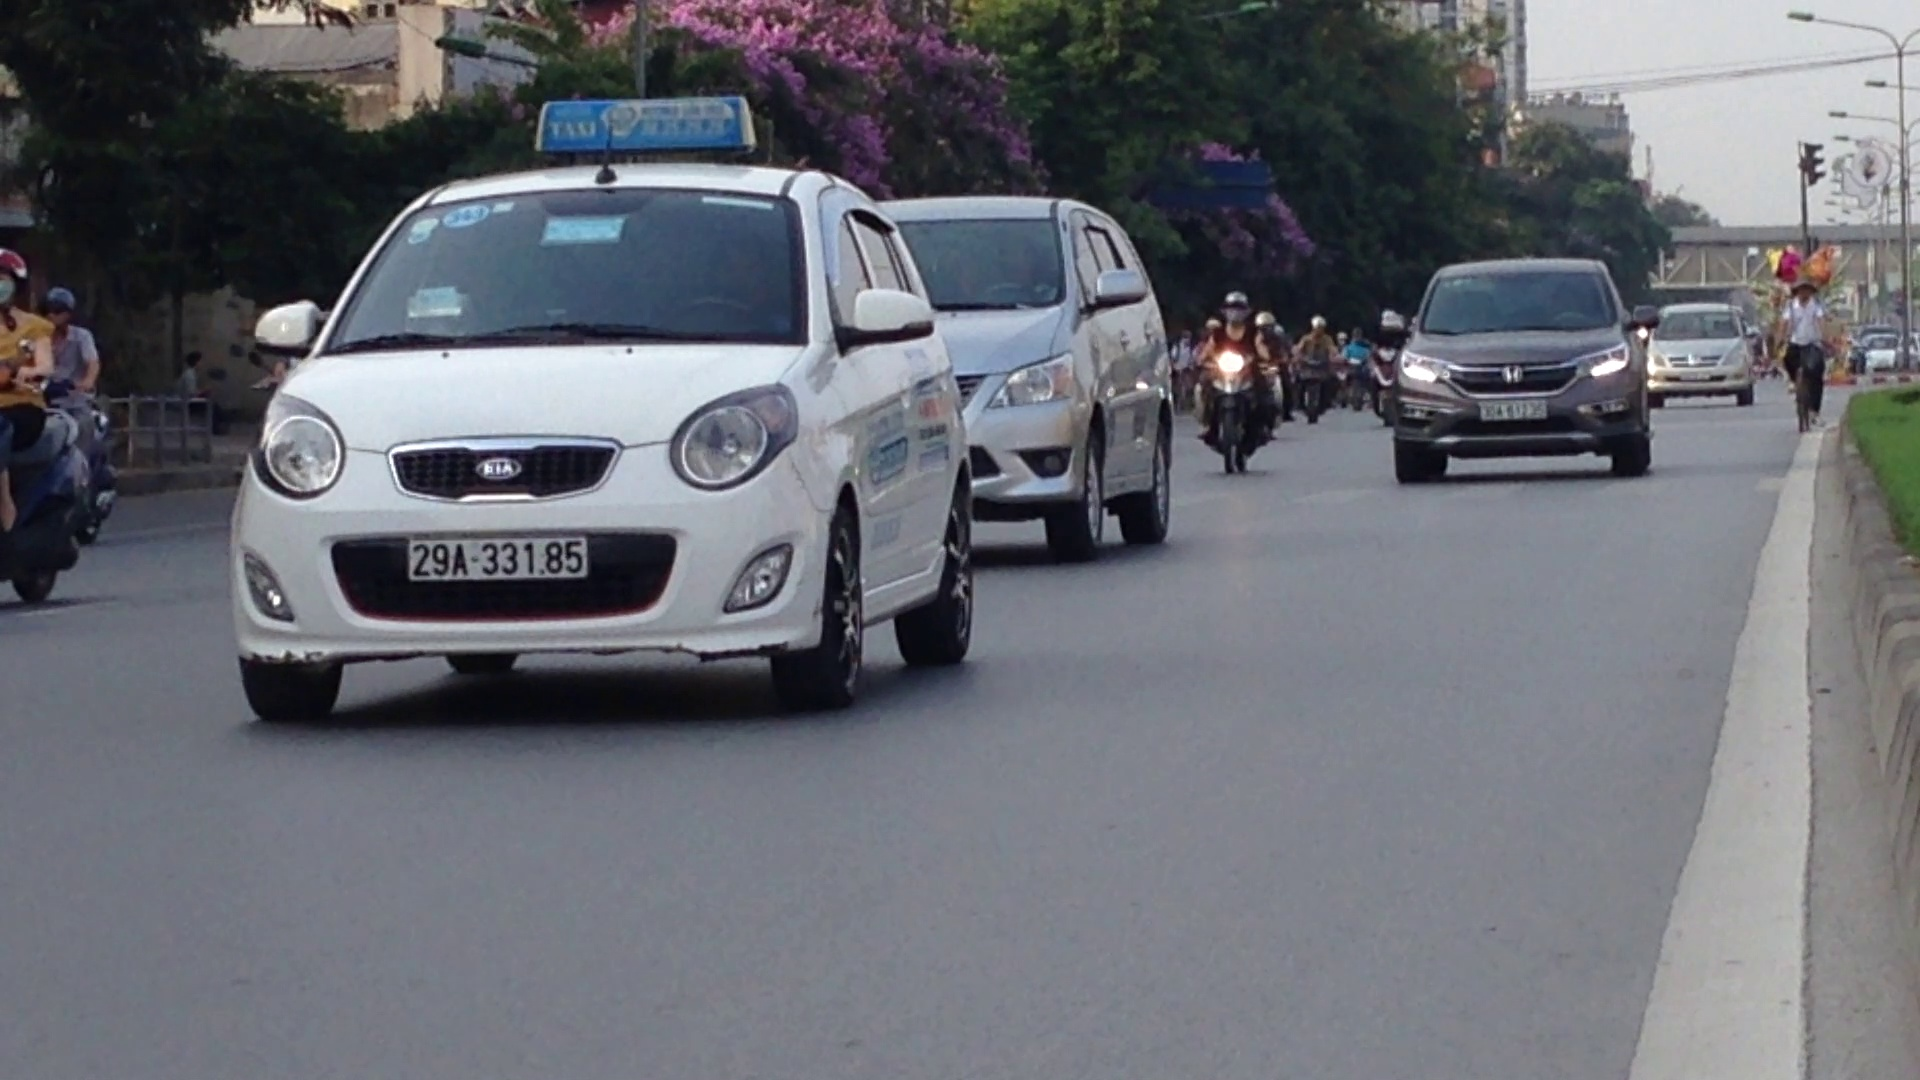person: (406, 535, 591, 582), (1477, 397, 1554, 424)
